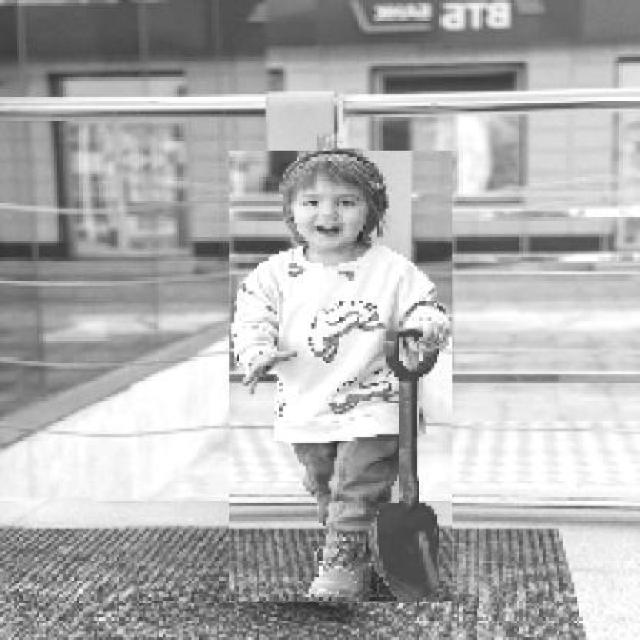child: (228, 151, 452, 603)
